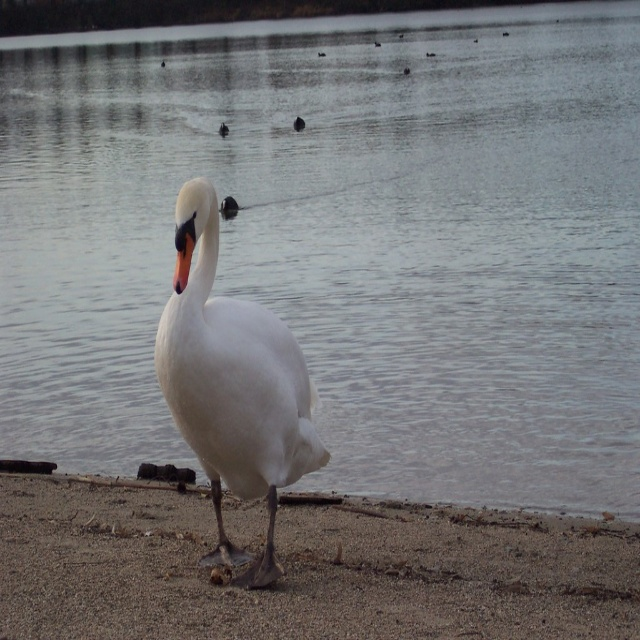Duck: (148, 179, 339, 599)
